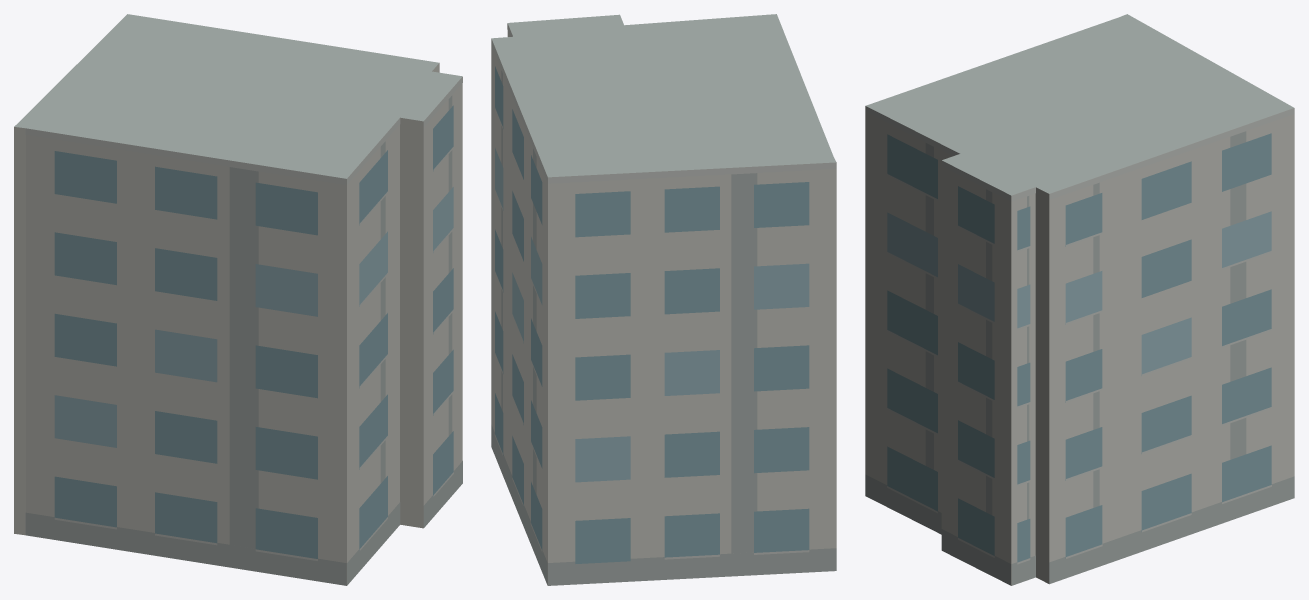
Rendered from survey-upis-32802490.glb.
3 renders of one model, left to right at view 1: azimuth 30°, elevation 25°; view 2: azimuth 150°, elevation 25°; view 3: azimuth 270°, elevation 25°, orthographic. The views are drawn at different scales.
Visible parts, largest first — view 1: survey-upis-32802490.tmp; view 2: survey-upis-32802490.tmp; view 3: survey-upis-32802490.tmp.
Boxes of the visible parts, bbox=[...] form: survey-upis-32802490.tmp: bbox=[14, 14, 462, 585]; survey-upis-32802490.tmp: bbox=[491, 14, 836, 585]; survey-upis-32802490.tmp: bbox=[865, 14, 1294, 585].
Bounding box in the file's own units: 15.08 × 15.1 × 15.05.
